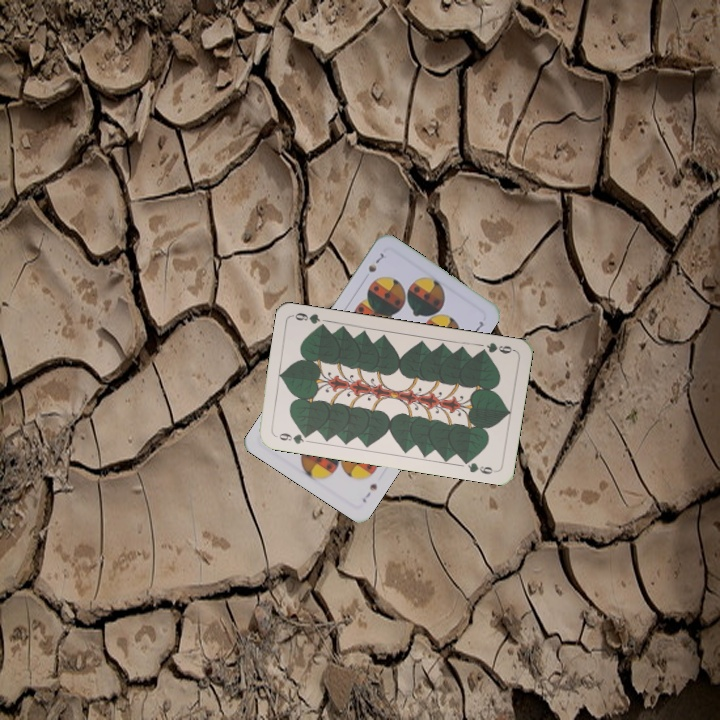G9: (475, 338, 517, 356), (275, 429, 313, 447)
S7: (364, 248, 387, 275), (358, 479, 380, 505)
